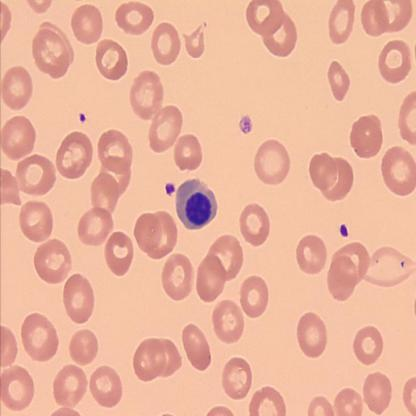NRC: (173, 176, 219, 232)
